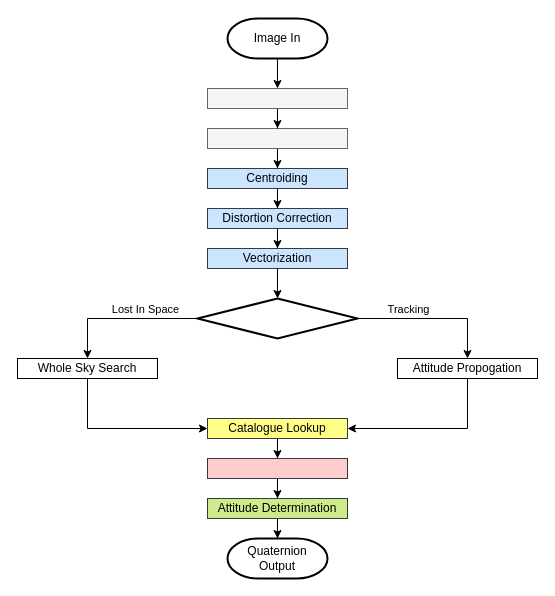
The diagram is 555 pixels wide and 596 high, and some of its shapes have lost their labels. The shapes that lost their labels are listed below. From the top down, each one's box as (x1, y1, x2, y2) in pixels, then its label:
(206, 88, 348, 108): Image Preprocessing
(206, 128, 348, 148): Find Star Candidates
(196, 297, 358, 339): Operating Mode
(206, 458, 348, 478): False Star Rejection
